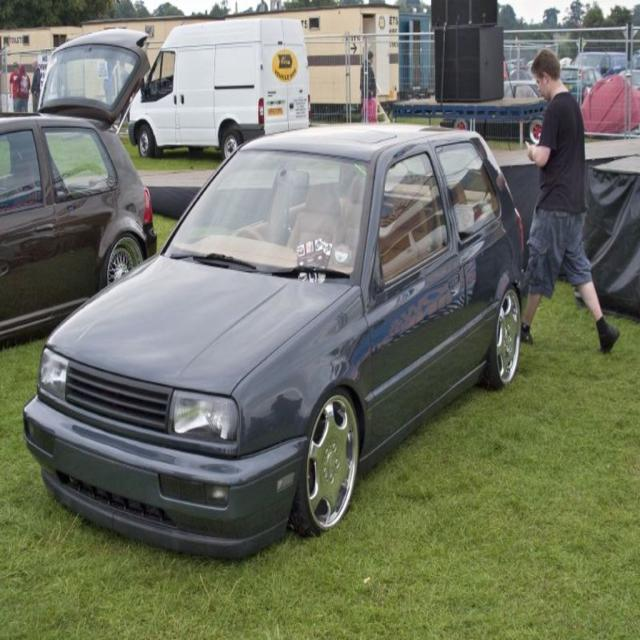car: (21, 116, 527, 570)
